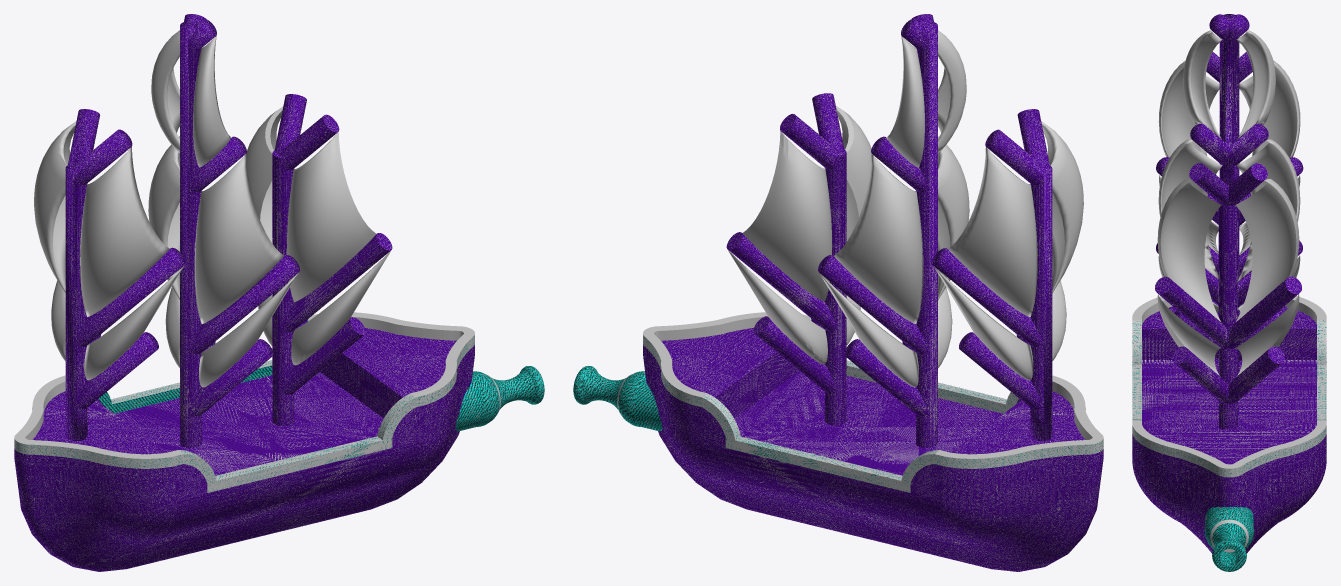
Rendered from Dragon7.dae.
3 views of the same model, side by side, from view 1: azimuth 30°, elevation 25°; view 2: azimuth 150°, elevation 25°; view 3: azimuth 270°, elevation 25° (orthographic). The views are drawn at different scales.
Parts seen in each view (by area): view 1: ship (×23); view 2: ship (×22); view 3: ship (×22).
Part boxes in pixels (<box>): ship (×23): <box>14,14,544,571</box>; ship (×22): <box>573,14,1103,571</box>; ship (×22): <box>1132,14,1326,571</box>.
Bounding box in the file's own units: 21.47 × 7.87 × 21.03.
